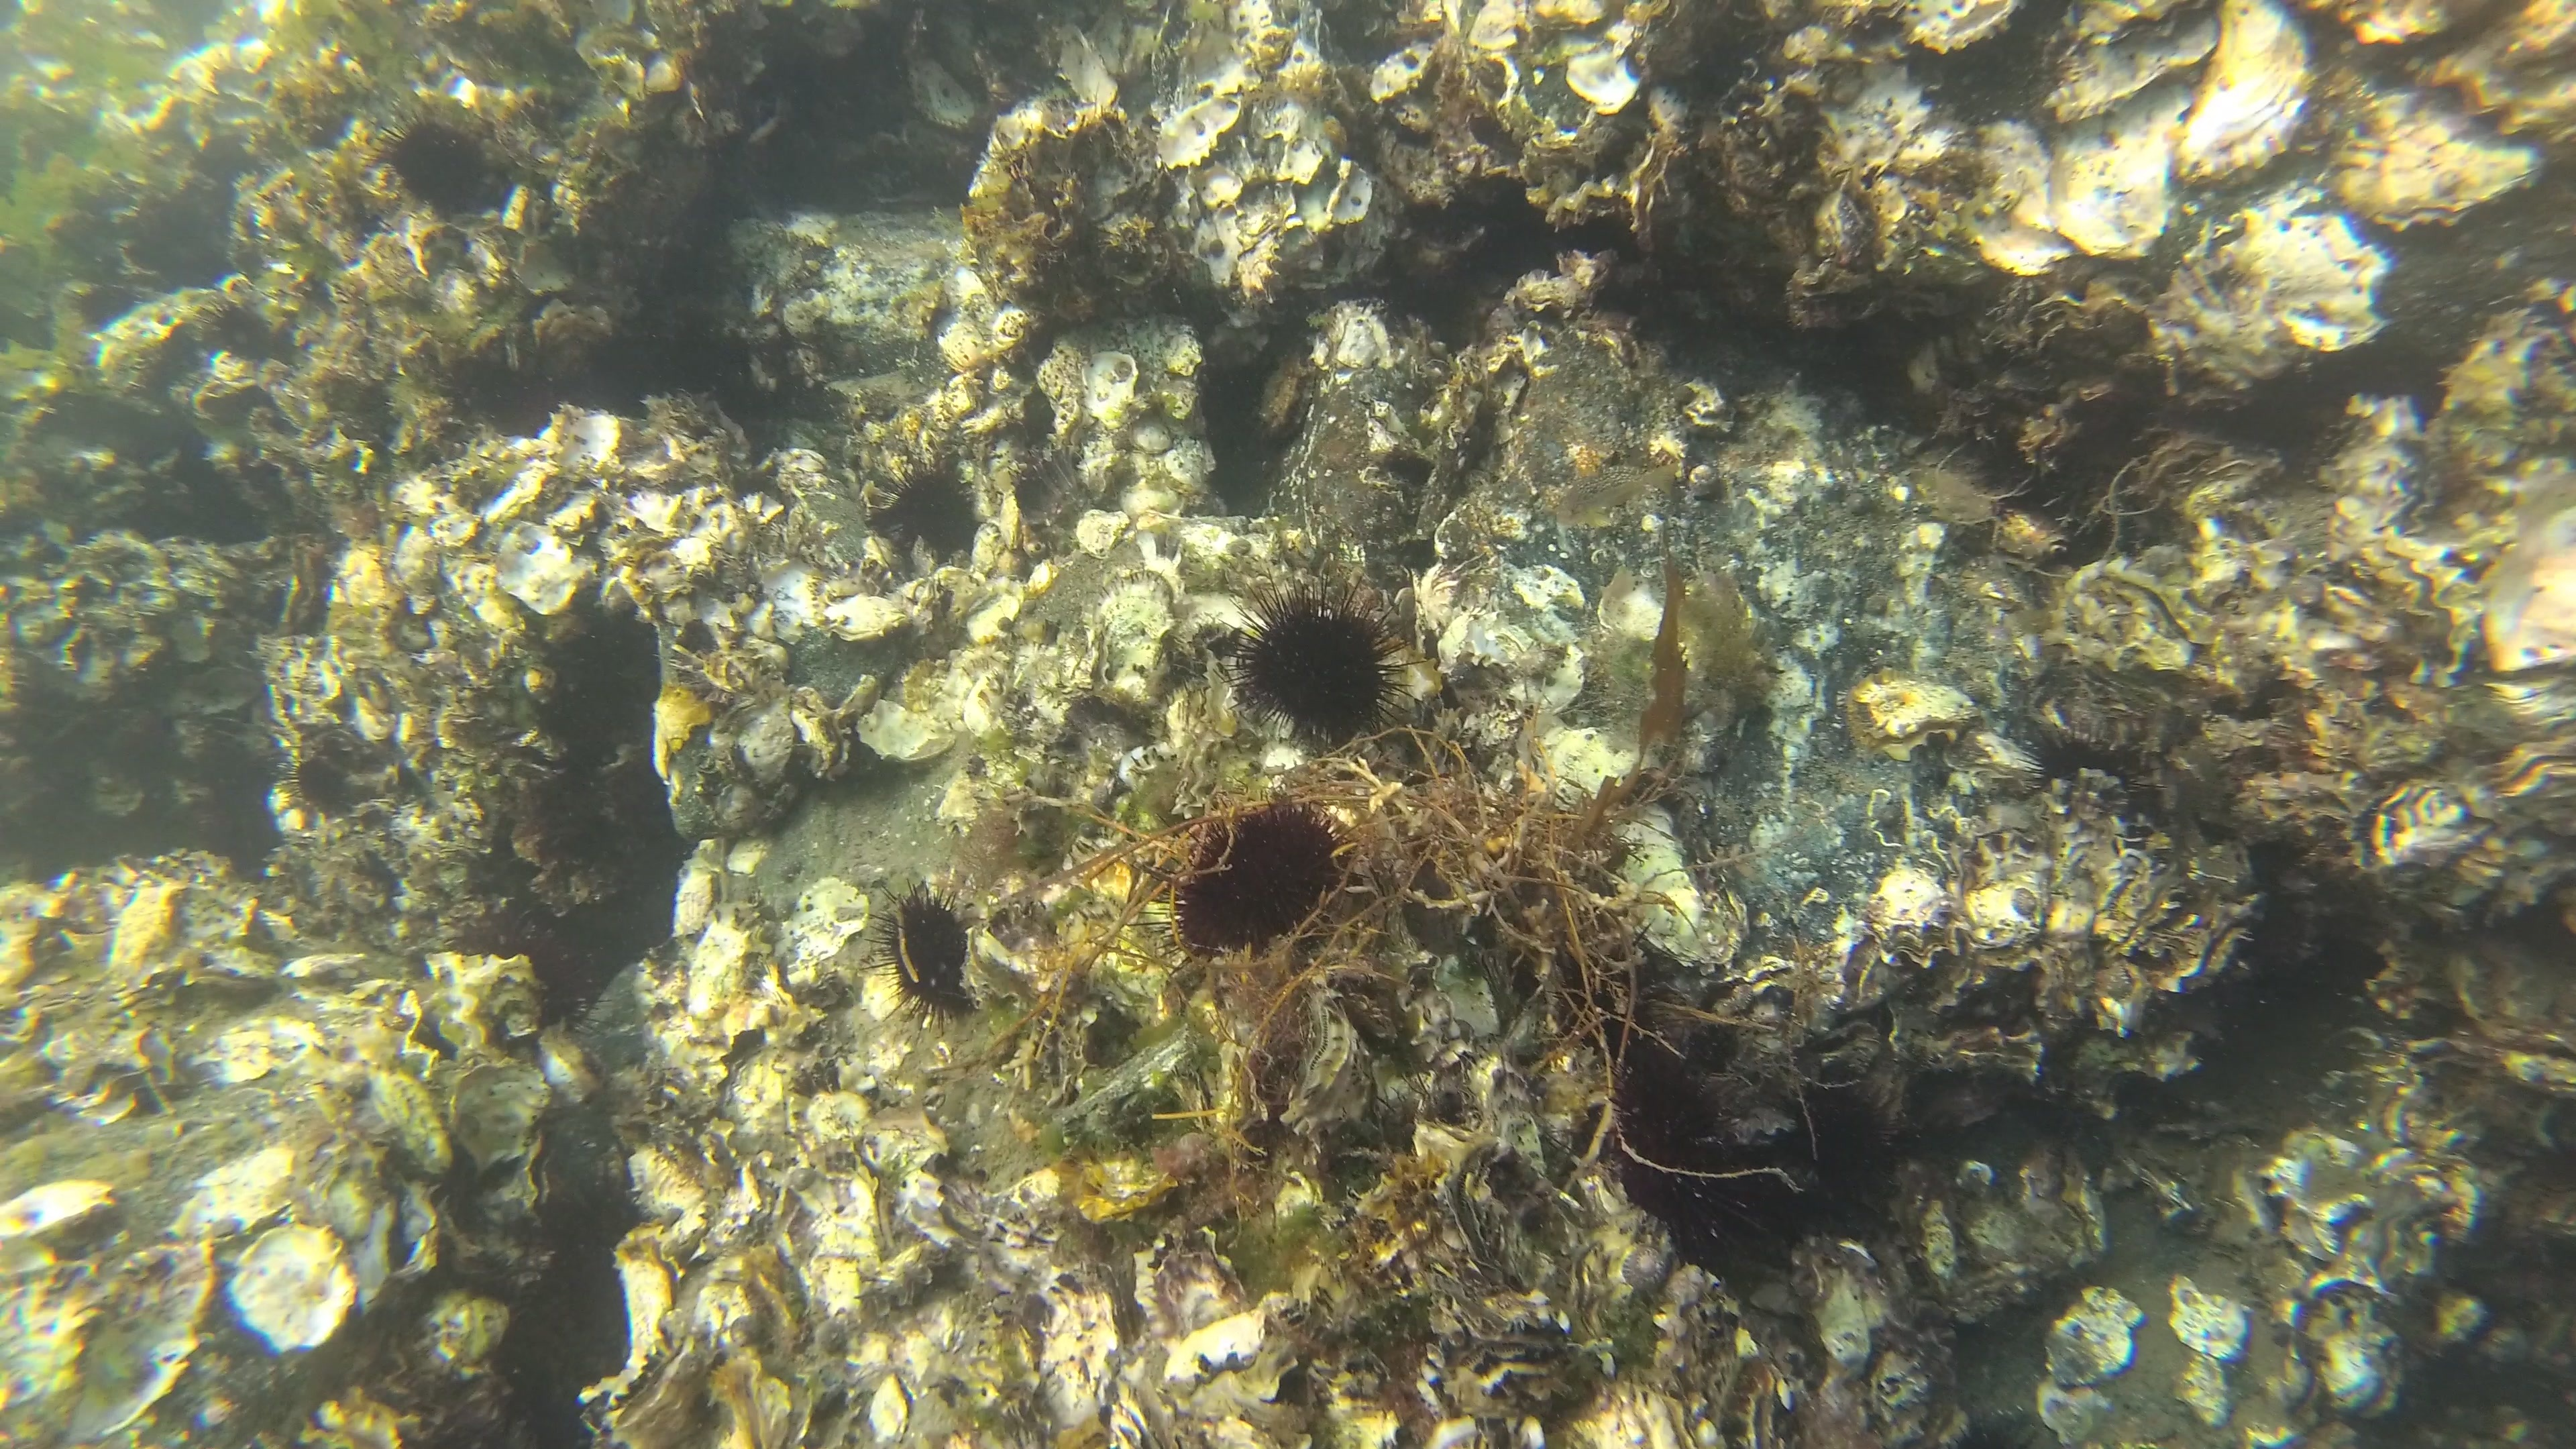echinus: (1224, 559, 1449, 727), (1157, 801, 1350, 936), (373, 110, 494, 223), (869, 879, 977, 1003), (867, 458, 978, 557), (2031, 727, 2144, 805)
